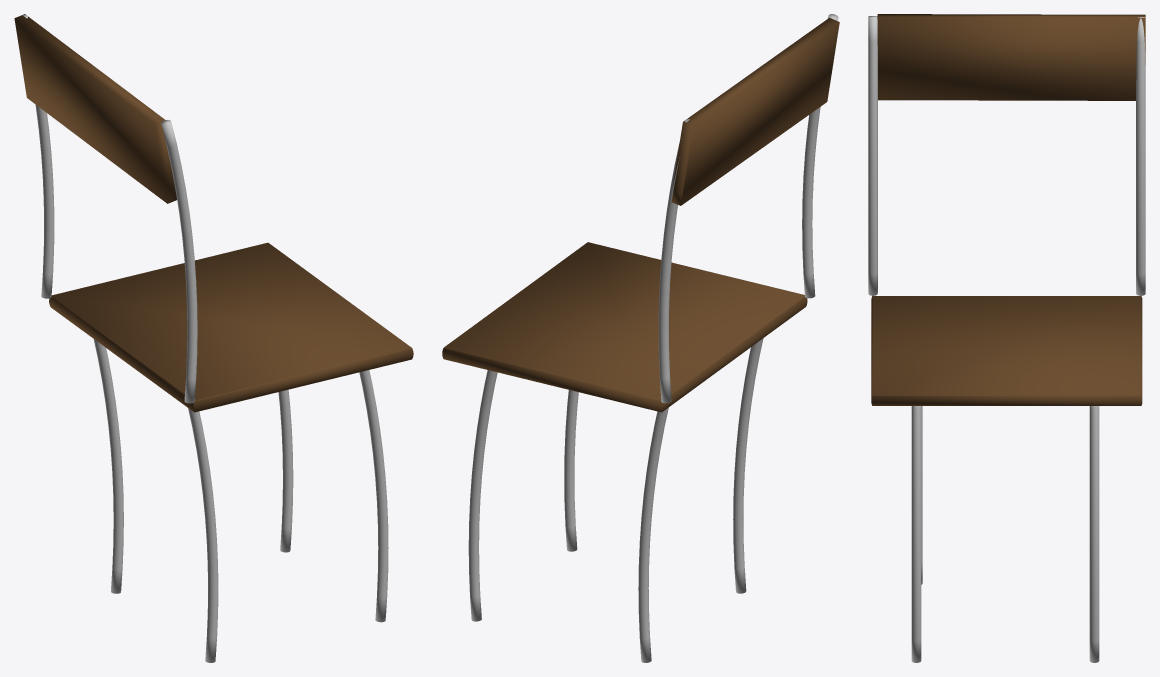
File: chair.dae
3 renders of one model, left to right at view 1: azimuth 30°, elevation 25°; view 2: azimuth 150°, elevation 25°; view 3: azimuth 270°, elevation 25°, orthographic. The views are drawn at different scales.
Visible parts, largest first — view 1: SketchUp (×8); view 2: SketchUp (×8); view 3: SketchUp (×6).
Boxes of the visible parts, x1,y1,x2,y2 form: SketchUp (×8): (14, 14, 413, 662); SketchUp (×8): (442, 14, 839, 662); SketchUp (×6): (868, 14, 1145, 662).
Size of the model in its own units: 3432 by 3458 by 7377.
